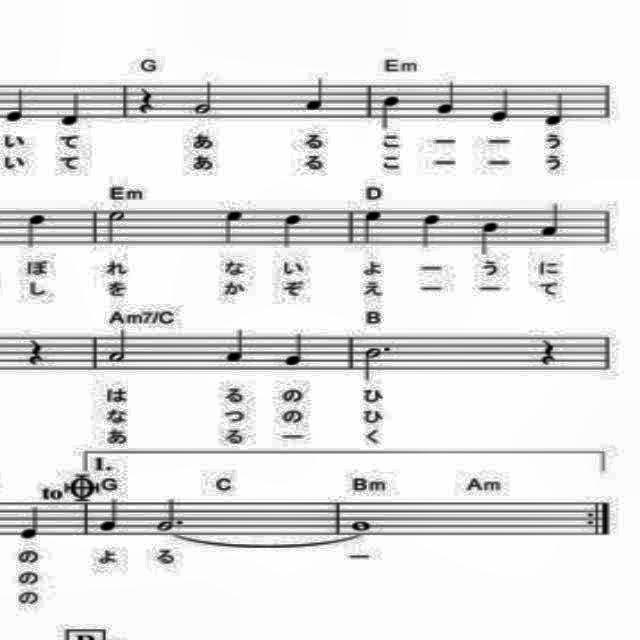Full-note: (350, 515, 374, 533)
Half-dot: (152, 492, 188, 536)
Half-note: (358, 338, 394, 384), (190, 75, 220, 118), (102, 207, 130, 250), (104, 326, 132, 366)
Quarter-note: (535, 196, 565, 242), (278, 208, 308, 252), (23, 208, 53, 252), (57, 86, 87, 130), (417, 210, 447, 254), (220, 324, 250, 368), (221, 206, 251, 250), (1, 82, 31, 126), (302, 73, 332, 117), (17, 501, 47, 544), (433, 75, 462, 119), (358, 205, 387, 248), (280, 328, 308, 372), (487, 82, 515, 126), (540, 86, 568, 130), (96, 495, 124, 537), (477, 218, 505, 258), (378, 90, 406, 130)
Quarter-rest: (22, 331, 50, 369), (132, 82, 160, 118), (534, 331, 560, 369)
